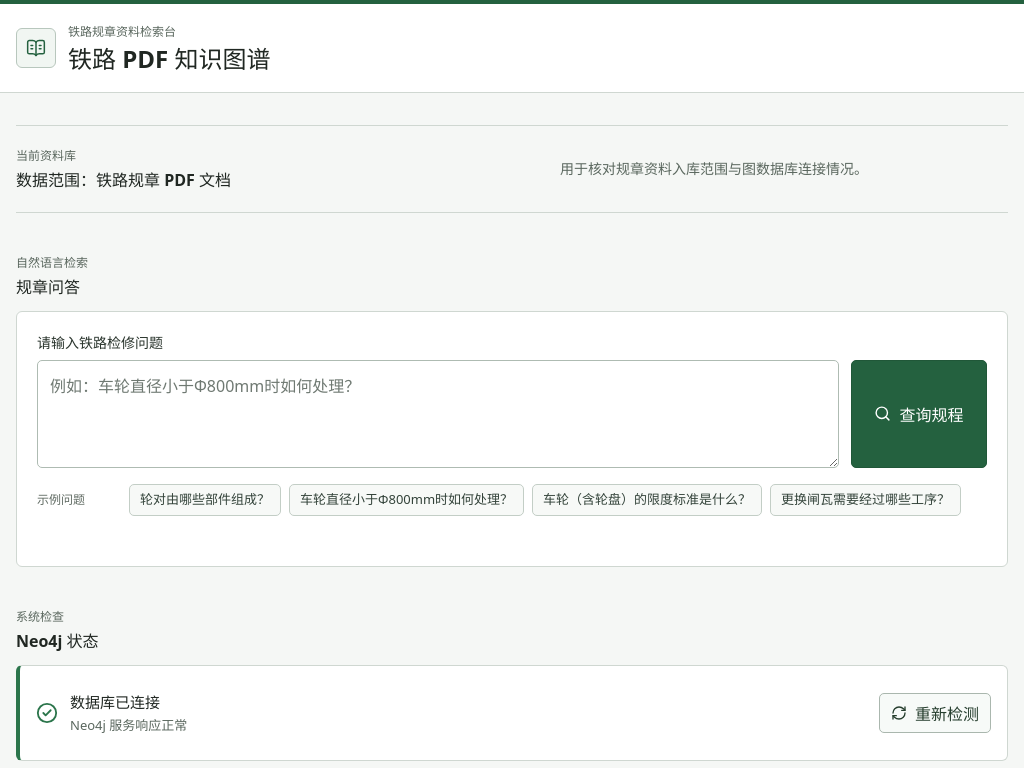
Test: 显示成功答案、中文处理方式、中文实体类型和双页码证据
Expected: the text "数据库已连接" is shown, [70,692,160,712]
Expected: the button "查询规程" is enabled, [851,360,987,468]
In the text box: point(438, 414) [37,360,839,468], type "车轮直径小于Φ800mm时如何处理？"
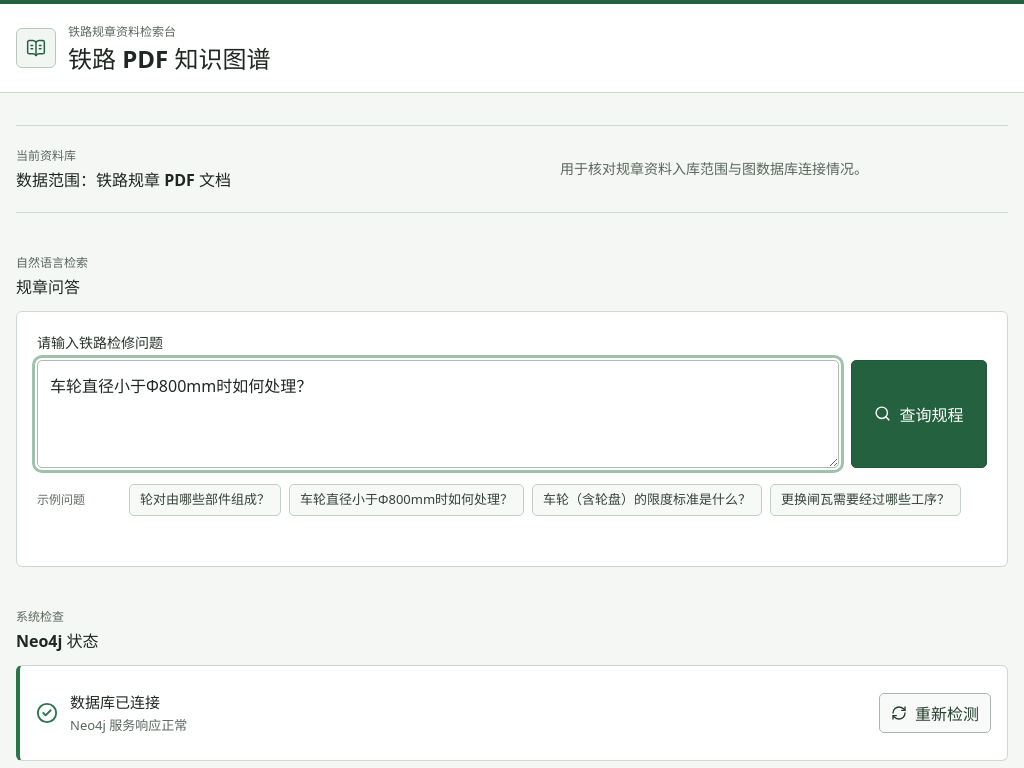
Click the button "查询规程": point(919, 414) [851,360,987,468]
(page scrolled)
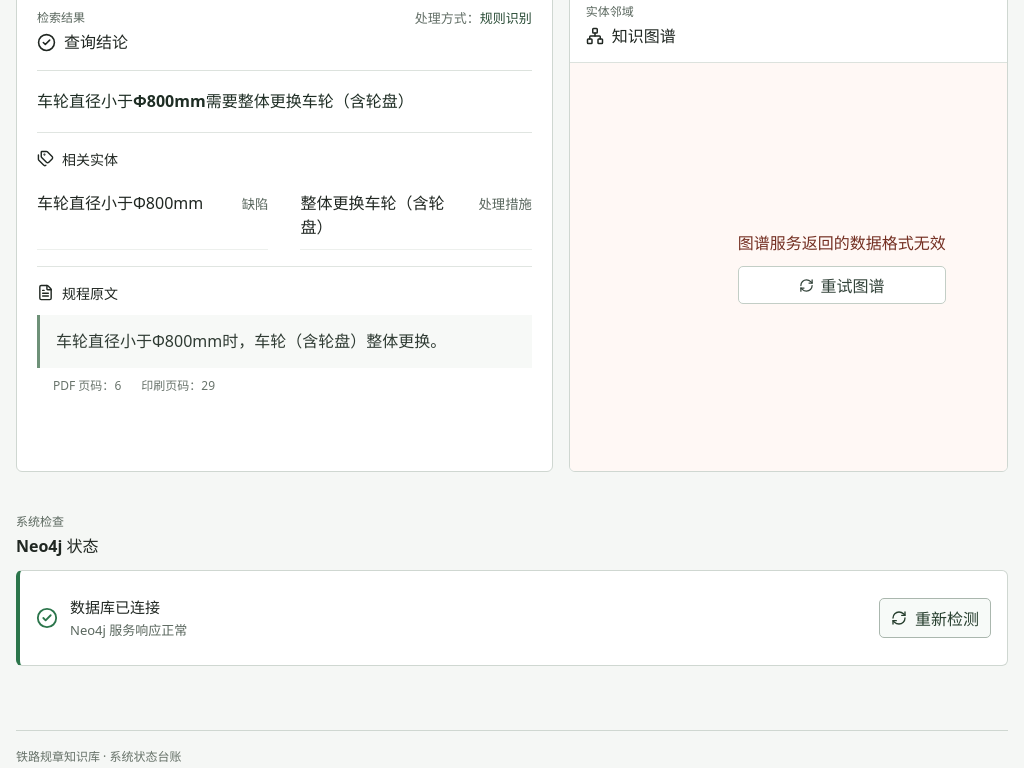
Now the heading "查询结论" is shown, box [37,30,128,54]
Now the text "车轮直径小于Φ800mm需要整体更换车轮（含轮盘）" is shown, box [37,90,414,112]
Now the text "规则识别" is shown, box [480,9,532,27]
